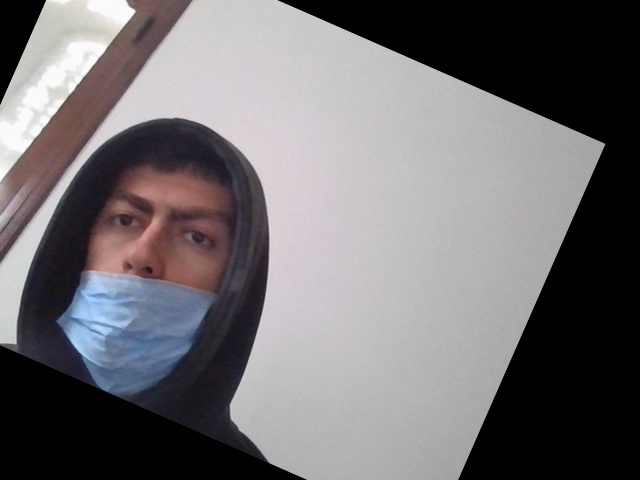mask_weared_incorrect: (56, 152, 254, 398)
